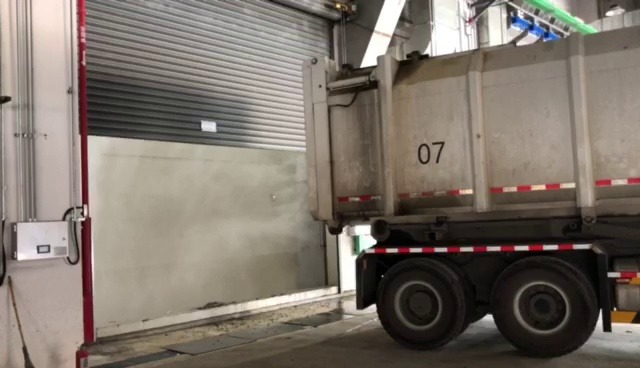dust: (91, 172, 305, 294)
truck: (291, 17, 640, 363)
